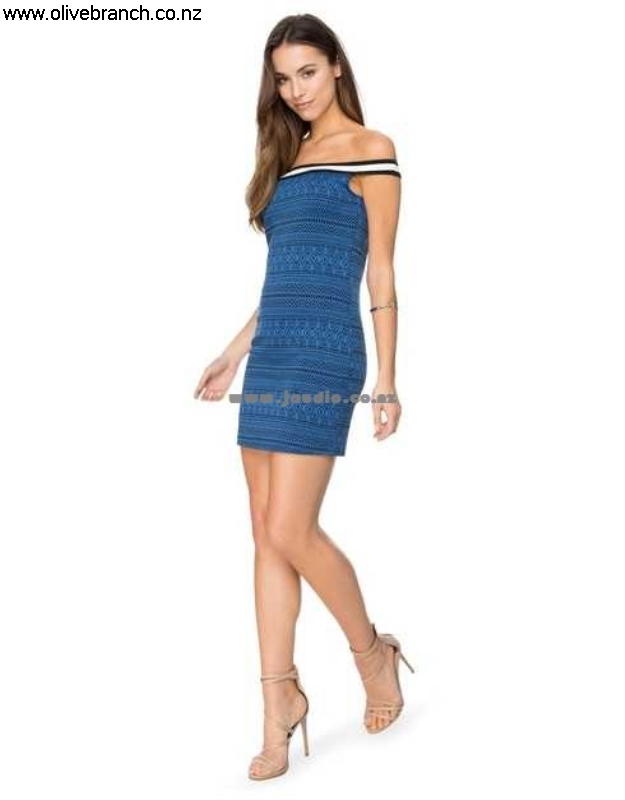C_dress: (192, 151, 409, 464)
